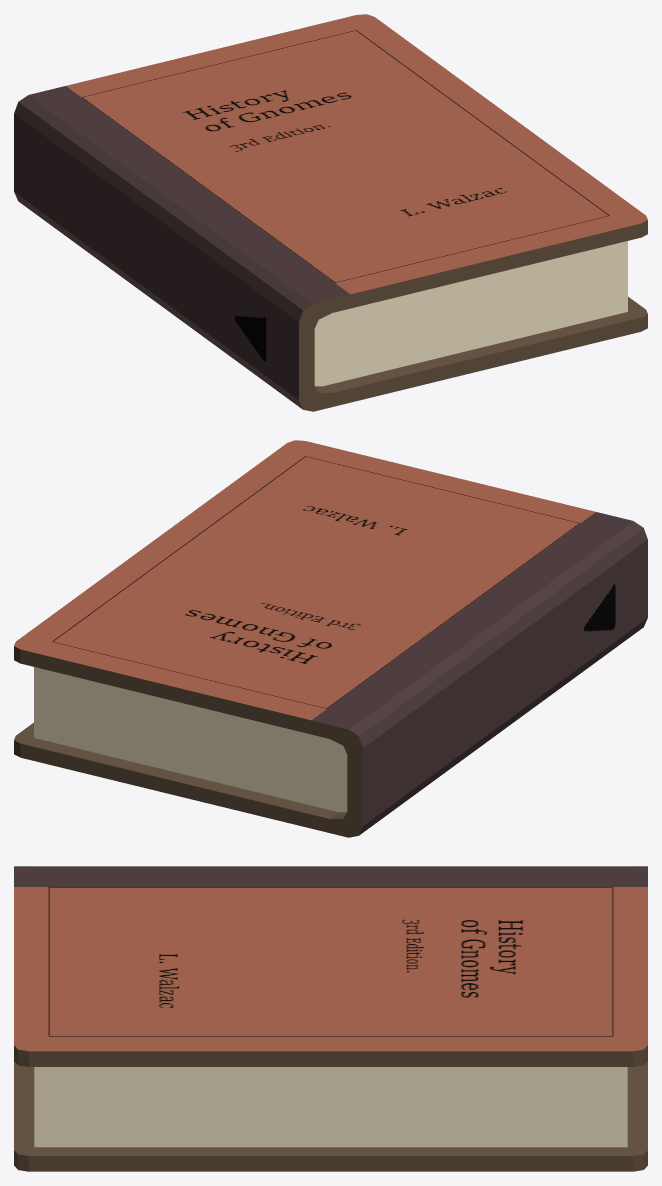
Rendered from Book4.fbx.
3 views of the same model, one above another, from view 1: azimuth 30°, elevation 25°; view 2: azimuth 150°, elevation 25°; view 3: azimuth 270°, elevation 25° (orthographic). The views are drawn at different scales.
Visible parts, largest first — view 1: Book; view 2: Book; view 3: Book.
Part boxes in pixels (x1,y1,x2,y2): Book: [14, 14, 647, 411]; Book: [14, 440, 647, 837]; Book: [14, 866, 647, 1171].
Size of the model in its own units: 223 by 65 by 310.
